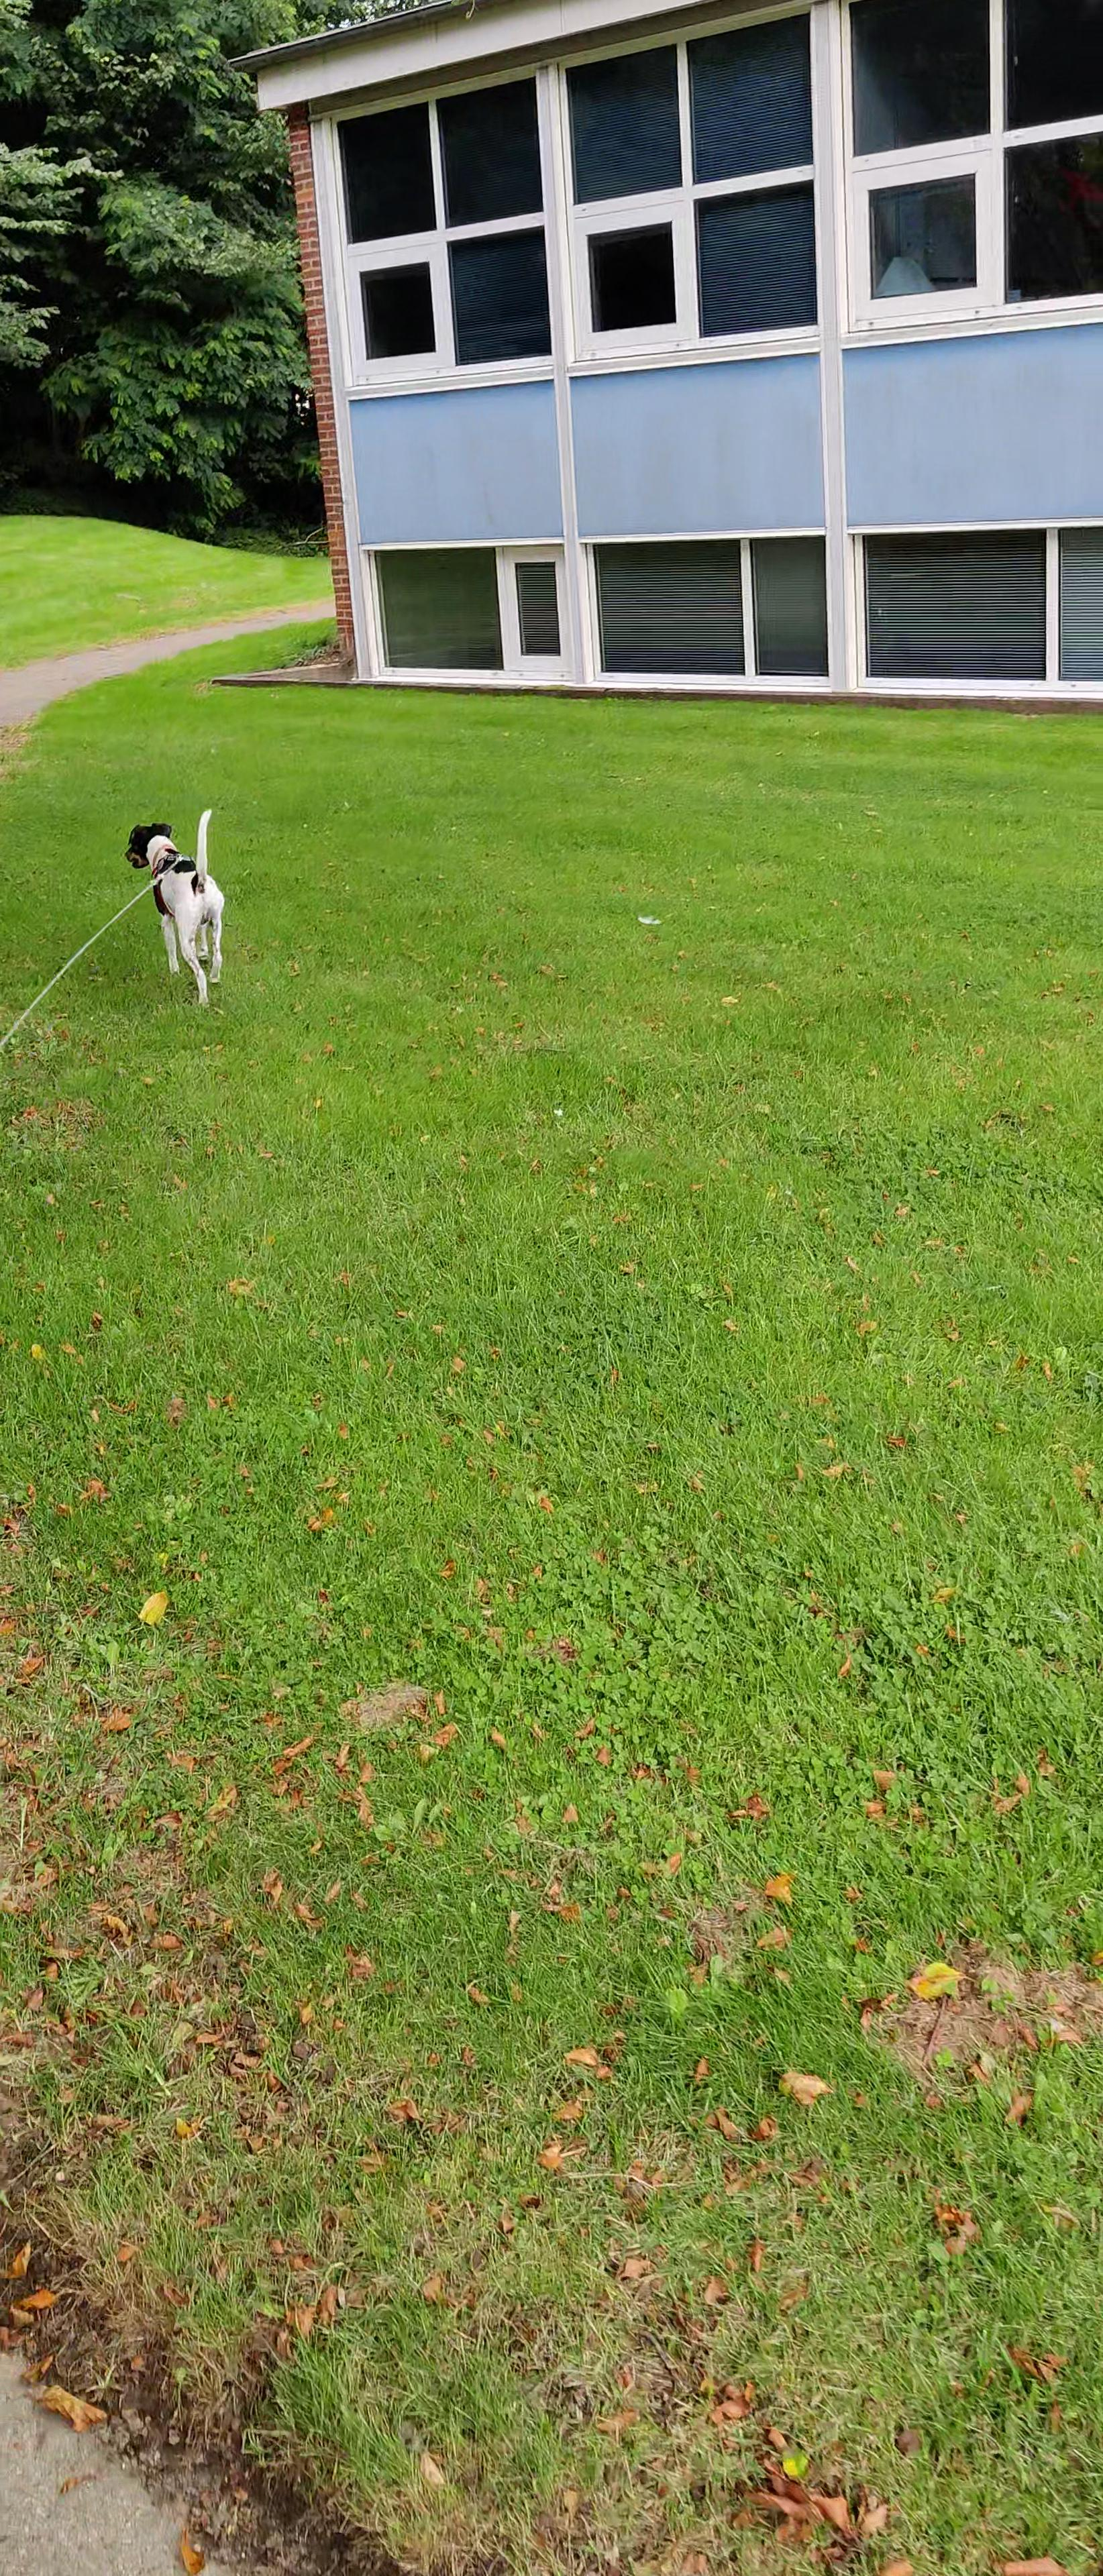Dog: (105, 789, 247, 1012)
